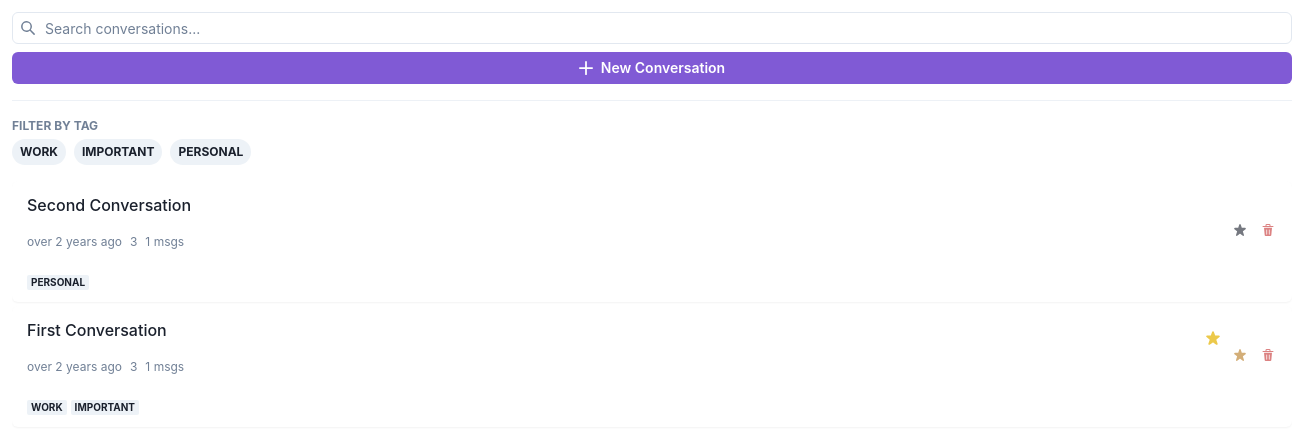
Test case: ConversationListView › filters conversations by search query
Type "First" into the field with placeholder "Search conversations...". click: (652, 28)
box: [12,12,1292,44]
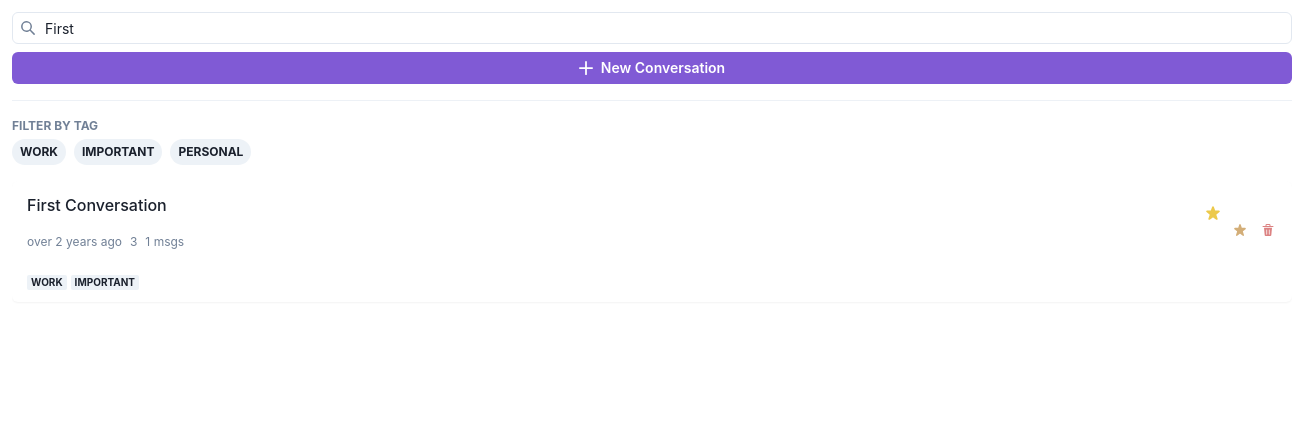
Check: the text "First Conversation" is shown, box [27,195,167,215]
Check: the text "Second Conversation" is gone
